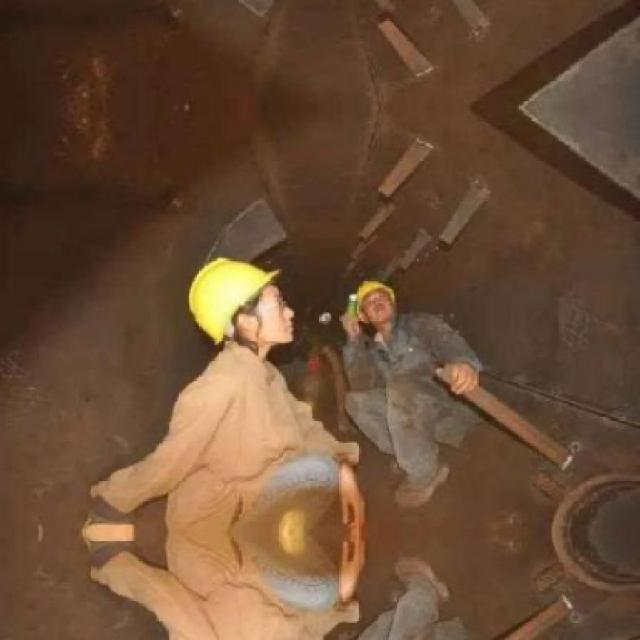helmet: (183, 246, 295, 360), (352, 274, 397, 332)
